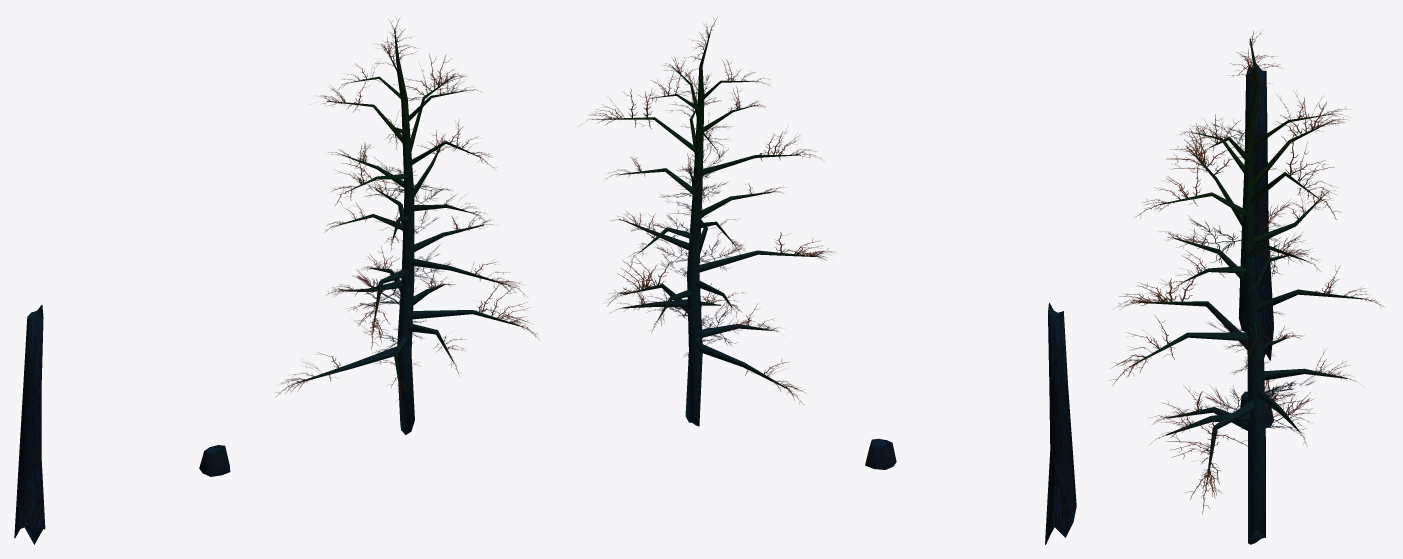
The model's file is Scoth_Pine_Props.glb.
3 views of the same model, side by side, from view 1: azimuth 30°, elevation 25°; view 2: azimuth 150°, elevation 25°; view 3: azimuth 270°, elevation 25° (orthographic). The views are drawn at different scales.
Parts seen in each view (by area): view 1: Scots_Pine_Prop_3, Scots_Pine_Prop_1, Scots_Pine_Prop_2; view 2: Scots_Pine_Prop_3, Scots_Pine_Prop_1, Scots_Pine_Prop_2; view 3: Scots_Pine_Prop_3, Scots_Pine_Prop_1.
Part boxes in pixels (box(x1,y1,x2,y2)): Scots_Pine_Prop_3: box(275, 18, 539, 434); Scots_Pine_Prop_1: box(14, 305, 45, 544); Scots_Pine_Prop_2: box(199, 445, 230, 476); Scots_Pine_Prop_3: box(581, 17, 835, 426); Scots_Pine_Prop_1: box(1045, 302, 1076, 544); Scots_Pine_Prop_2: box(865, 438, 896, 469); Scots_Pine_Prop_3: box(1110, 31, 1383, 544); Scots_Pine_Prop_1: box(1238, 63, 1273, 360).
Bounding box in the file's own units: 27.26 × 23.39 × 10.85.
Materials: 3 (3 with a texture image).
